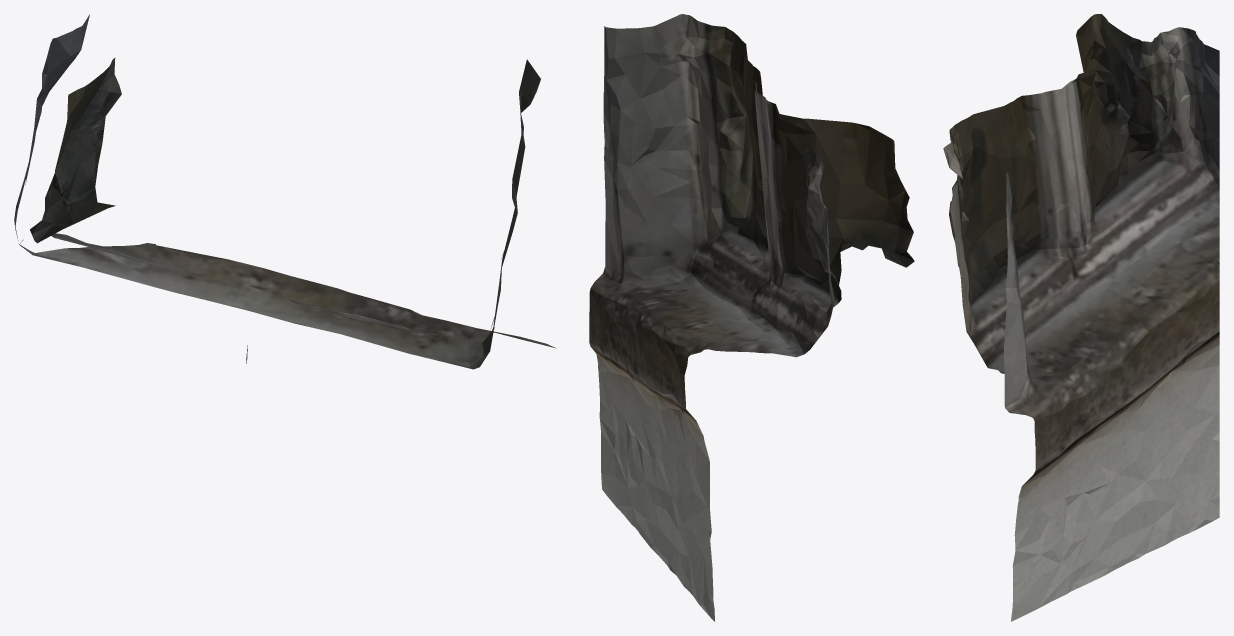
3 renders of one model, left to right at view 1: azimuth 30°, elevation 25°; view 2: azimuth 150°, elevation 25°; view 3: azimuth 270°, elevation 25°, orthographic. The views are drawn at different scales.
Bounding box in the file's own units: 0.6863 × 0.8374 × 0.4675.
2 materials, 2 textured.
